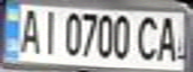0: (112, 12, 136, 61), (60, 9, 84, 57), (96, 11, 115, 60)
7: (78, 10, 100, 58)
A: (154, 12, 184, 63), (15, 6, 42, 54)
C: (136, 12, 163, 63)
I: (36, 7, 60, 55)
